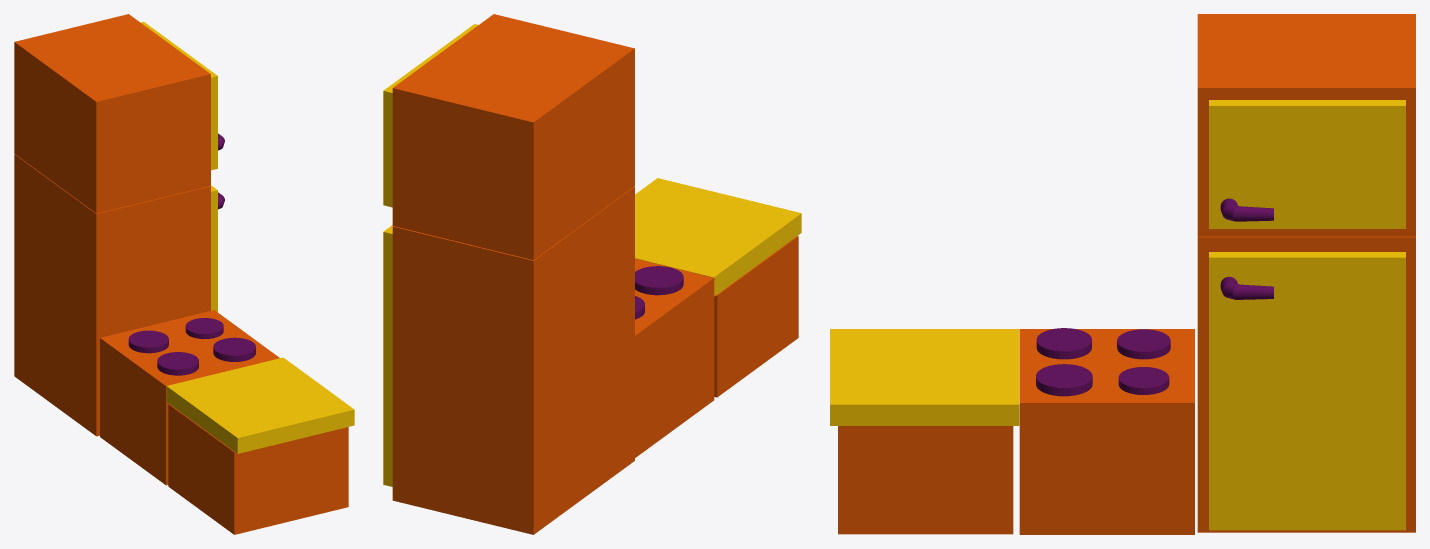
Rendered from kitchen.glb.
3 renders of one model, left to right at view 1: azimuth 30°, elevation 25°; view 2: azimuth 150°, elevation 25°; view 3: azimuth 270°, elevation 25°, orthographic. The views are drawn at different scales.
Visible parts, largest first — view 1: Cube.001, Cube.002, Cube.005, Cube.006, Cube, Cube.004, Cylinder.002, Cube.003, Cylinder.003, Cylinder, Cylinder.001; view 2: Cube.001, Cube.002, Cube, Cube.006, Cube.005, Cube.003, Cube.004, Cylinder.003; view 3: Cube.003, Cube.006, Cube.004, Cube.002, Cube.005, Cube, Cube.001, Cylinder.002, Cylinder.003, Cylinder, Cylinder.001, Cube.007 (+1 smaller).
Boxes of the visible parts, left/top/right/bottom form: Cube.001: left=14, top=154, right=210, bottom=436; Cube.002: left=14, top=14, right=210, bottom=213; Cube.005: left=168, top=404, right=348, bottom=534; Cube.006: left=100, top=310, right=279, bottom=485; Cube: left=166, top=357, right=354, bottom=453; Cube.004: left=140, top=21, right=217, bottom=170; Cylinder.002: left=213, top=337, right=255, bottom=361; Cube.003: left=211, top=185, right=217, bottom=312; Cylinder.003: left=157, top=352, right=198, bottom=375; Cylinder: left=128, top=330, right=168, bottom=353; Cylinder.001: left=185, top=318, right=223, bottom=338; Cube.001: left=392, top=186, right=634, bottom=534; Cube.002: left=392, top=14, right=634, bottom=259; Cube: left=635, top=178, right=801, bottom=296; Cube.006: left=635, top=258, right=714, bottom=457; Cube.005: left=714, top=236, right=798, bottom=397; Cube.003: left=383, top=225, right=392, bottom=486; Cube.004: left=383, top=24, right=478, bottom=207; Cylinder.003: left=635, top=266, right=683, bottom=295; Cube.003: left=1209, top=252, right=1405, bottom=530; Cube.006: left=1019, top=329, right=1194, bottom=534; Cube.004: left=1209, top=100, right=1405, bottom=228; Cube.002: left=1197, top=14, right=1415, bottom=236; Cube.005: left=838, top=426, right=1013, bottom=534; Cube: left=830, top=329, right=1019, bottom=425; Cube.001: left=1197, top=236, right=1415, bottom=532; Cylinder.002: left=1036, top=364, right=1092, bottom=396; Cylinder.003: left=1036, top=328, right=1091, bottom=359; Cylinder: left=1117, top=329, right=1170, bottom=359; Cylinder.001: left=1118, top=367, right=1169, bottom=394; Cube.007: left=1220, top=276, right=1273, bottom=299.
Size of the model in its own units: 4.81 by 10.81 by 12.9.
